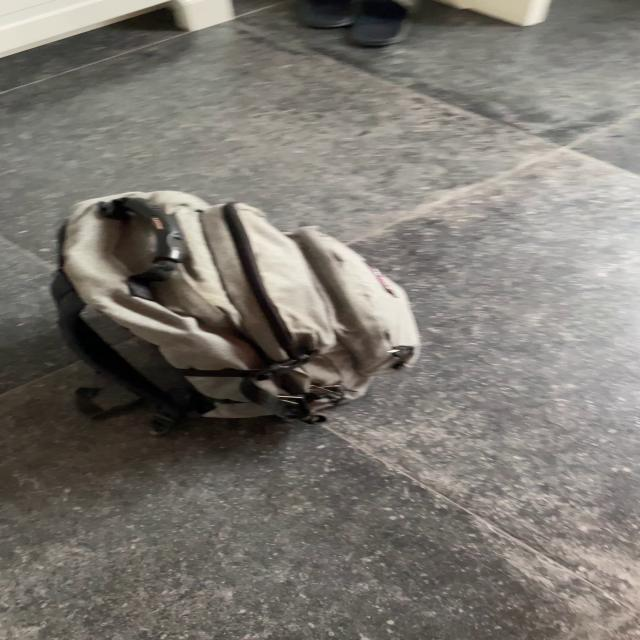backpack: (28, 184, 434, 430)
